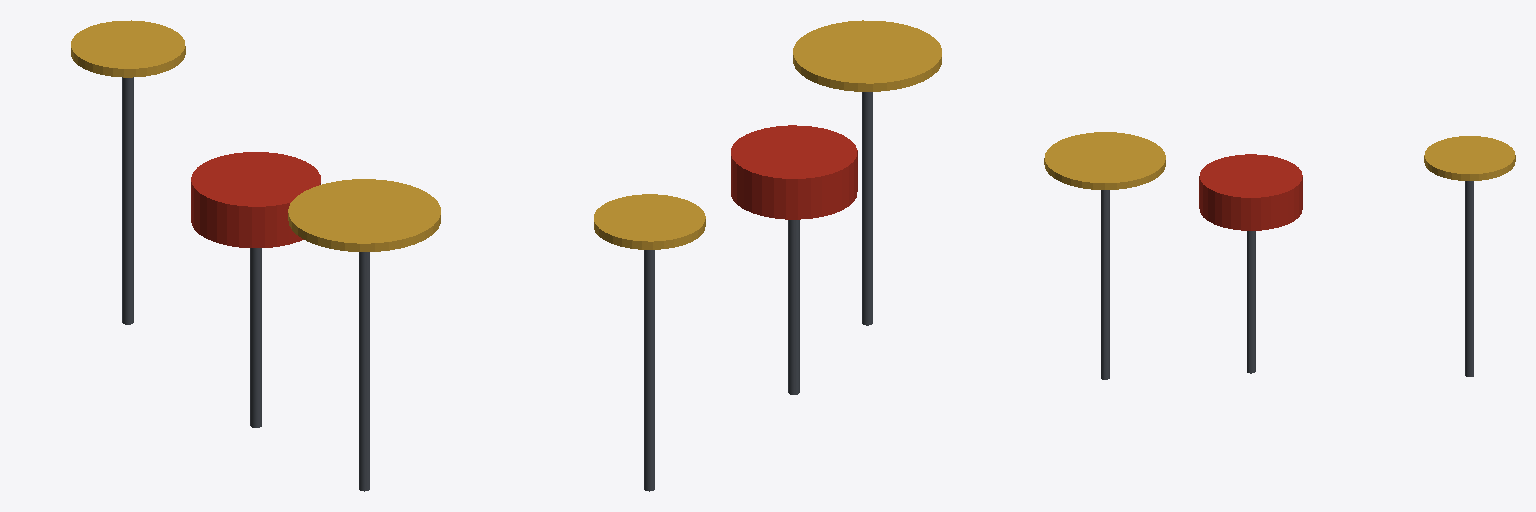
The robot description file, URDF, robot "wide_drum_kit":
<?xml version="1.0"?>
<robot name="wide_drum_kit">
  <link name="drum_kit_base"/>
  <!-- X forward, Y left, Z up. Each head frame is on its playable surface. -->
  <joint name="hi_hat_mount" type="fixed">
    <parent link="drum_kit_base"/>
    <child link="hi_hat_head"/>
    <origin xyz="0.55 0.6 0.8"/>
  </joint>
  <link name="hi_hat_head">
    <visual>
      <origin xyz="0 0 -0.0125"/>
      <geometry><cylinder radius="0.15" length="0.025"/></geometry>
      <material name="hi_hat_finish"><color rgba="0.80 0.63 0.24 1"/></material>
    </visual>
    <visual>
      <origin xyz="0 0 -0.41250000000000003"/>
      <geometry><cylinder radius="0.015" length="0.775"/></geometry>
      <material name="stand_hi_hat"><color rgba="0.34 0.36 0.39 1"/></material>
    </visual>
  </link>
  <joint name="snare_mount" type="fixed">
    <parent link="drum_kit_base"/>
    <child link="snare_head"/>
    <origin xyz="0.52 -0.12 0.71"/>
  </joint>
  <link name="snare_head">
    <visual>
      <origin xyz="0 0 -0.06"/>
      <geometry><cylinder radius="0.17" length="0.12"/></geometry>
      <material name="snare_finish"><color rgba="0.72 0.22 0.16 1"/></material>
    </visual>
    <visual>
      <origin xyz="0 0 -0.415"/>
      <geometry><cylinder radius="0.015" length="0.59"/></geometry>
      <material name="stand_snare"><color rgba="0.34 0.36 0.39 1"/></material>
    </visual>
  </link>
  <joint name="ride_mount" type="fixed">
    <parent link="drum_kit_base"/>
    <child link="ride_head"/>
    <origin xyz="0.57 -0.6 0.8"/>
  </joint>
  <link name="ride_head">
    <visual>
      <origin xyz="0 0 -0.0125"/>
      <geometry><cylinder radius="0.2" length="0.025"/></geometry>
      <material name="ride_finish"><color rgba="0.80 0.63 0.24 1"/></material>
    </visual>
    <visual>
      <origin xyz="0 0 -0.41250000000000003"/>
      <geometry><cylinder radius="0.015" length="0.775"/></geometry>
      <material name="stand_ride"><color rgba="0.34 0.36 0.39 1"/></material>
    </visual>
  </link>
</robot>

--- Facts derived from the render (not from the file) ---
Views: 3 orthographic renders of the robot side by side, from view 1: azimuth 30°, elevation 25°; view 2: azimuth 150°, elevation 25°; view 3: azimuth 270°, elevation 25°.
Model wide_drum_kit with 4 links and 3 joints (3 fixed), rooted at drum_kit_base, posed every joint at zero.
Links seen in each view (by area): view 1: snare_head, ride_head, hi_hat_head; view 2: snare_head, ride_head, hi_hat_head; view 3: snare_head, ride_head, hi_hat_head.
Boxes of the visible links, x1,y1,x2,y2 form: snare_head: (191,152,320,427); ride_head: (288,179,440,491); hi_hat_head: (71,20,185,324); snare_head: (731,125,857,394); ride_head: (793,20,941,325); hi_hat_head: (594,194,705,491); snare_head: (1199,154,1302,373); ride_head: (1044,132,1165,379); hi_hat_head: (1424,136,1515,376).
Bounding box of the posed robot: 0.42 × 1.55 × 0.8 m (x, y, z).
Geometry: primitives only (box / cylinder / sphere), no mesh files.
